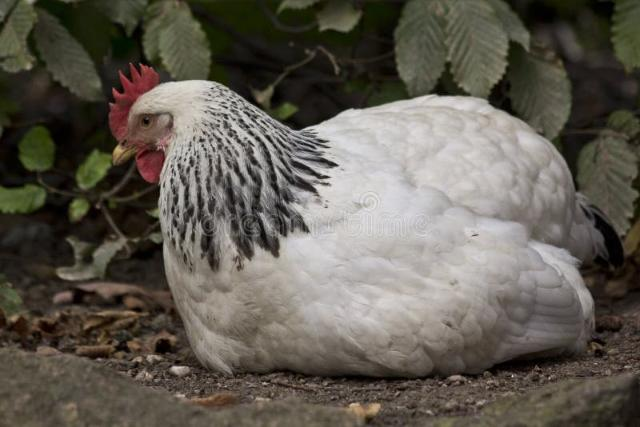Chicken: (105, 62, 597, 379)
